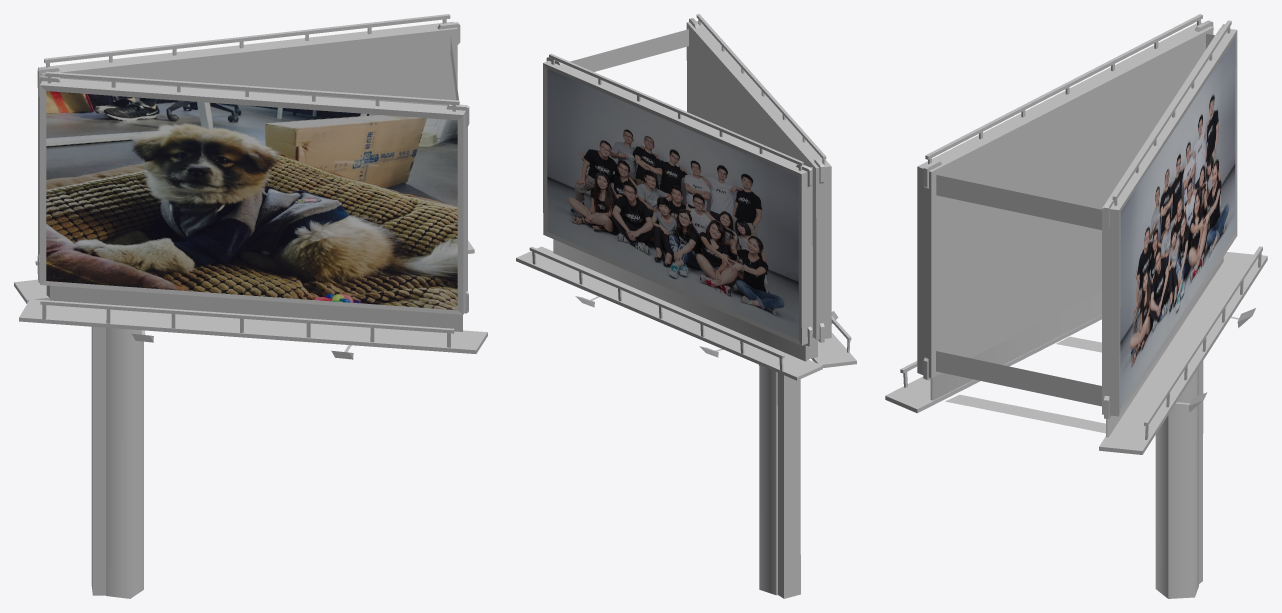
File: billboard.dae
The picture shows the model from 3 angles, left to right: view 1: azimuth 30°, elevation 25°; view 2: azimuth 150°, elevation 25°; view 3: azimuth 270°, elevation 25°; orthographic projection. The views are drawn at different scales.
Parts seen in each view (by area): view 1: Pic2, Base; view 2: Base, Pic1; view 3: Base, Pic1.
Part boxes in pixels (x1,y1,x2,y2): Pic2: (46,91,457,310); Base: (14,14,487,598); Base: (516,14,856,598); Pic1: (547,69,798,339); Base: (885,14,1267,598); Pic1: (1120,37,1235,407).
Size of the model in its own units: 7.52 by 9 by 5.74.
